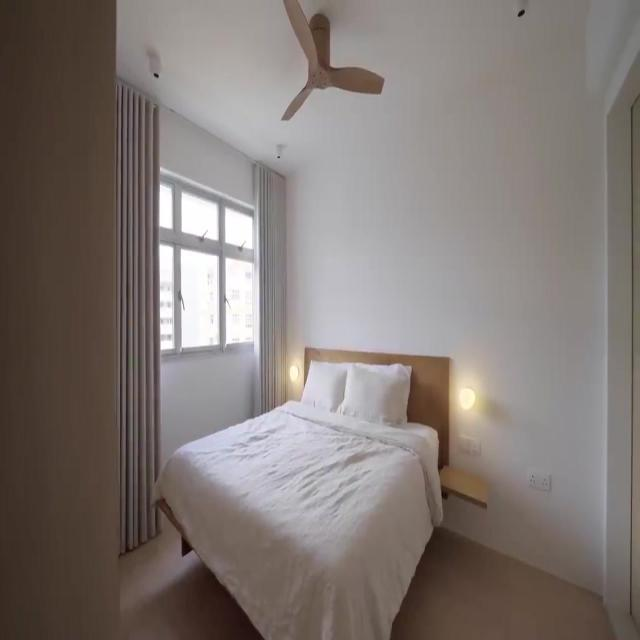obstacle: (151, 347, 449, 638)
